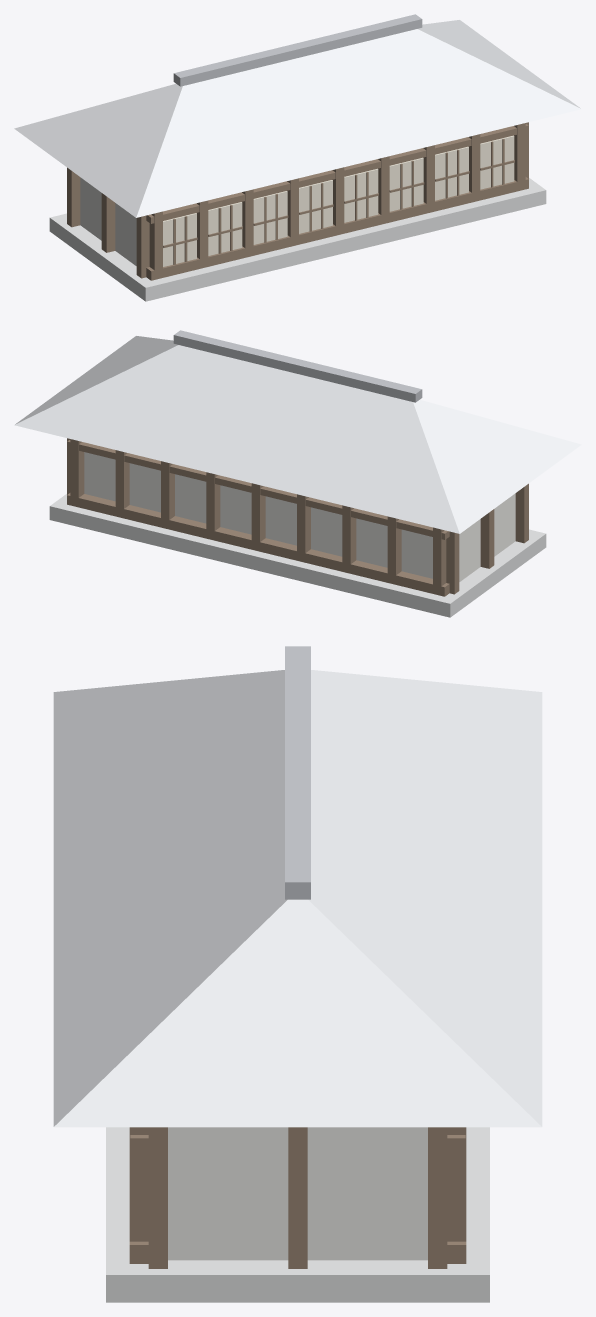
File: snow-house.glb
3 renders of one model, top to bottom at view 1: azimuth 30°, elevation 25°; view 2: azimuth 150°, elevation 25°; view 3: azimuth 270°, elevation 25°, orthographic. The views are drawn at different scales.
Parts seen in each view (by area): view 1: House_roof, House_wood, House_paper, House_base, House_ridge, House_bars, House_wall; view 2: House_roof, House_wood, House_wall, House_base, House_ridge; view 3: House_roof, House_wall, House_base, House_wood, House_ridge.
Part boxes in pixels (x1,y1,x2,y2): House_roof: [14, 20, 581, 217]; House_wood: [67, 122, 528, 280]; House_paper: [163, 135, 514, 266]; House_base: [49, 178, 546, 301]; House_ridge: [173, 14, 422, 86]; House_bars: [163, 138, 514, 264]; House_wall: [80, 177, 136, 265]; House_roof: [14, 336, 581, 533]; House_wood: [67, 438, 528, 596]; House_wall: [84, 452, 515, 581]; House_base: [49, 494, 546, 617]; House_ridge: [173, 330, 422, 402]; House_roof: [53, 670, 542, 1127]; House_wall: [168, 1127, 427, 1260]; House_base: [106, 1127, 489, 1302]; House_wood: [129, 1127, 466, 1268]; House_ridge: [285, 646, 310, 899].
Size of the model in its own units: 1.18 by 0.434 by 0.56.
